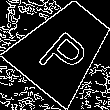P_NE: (32, 18, 94, 80)
